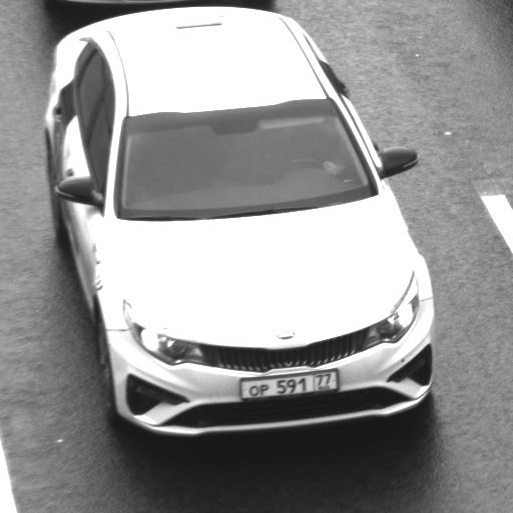plate: (230, 361, 348, 407)
